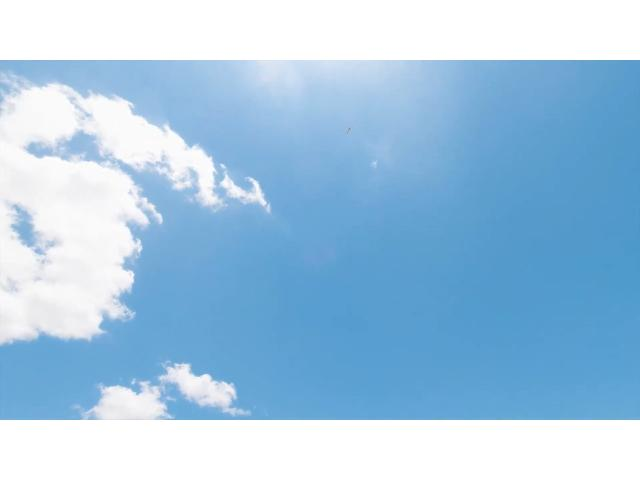Anti-Drone: (340, 120, 360, 140)
